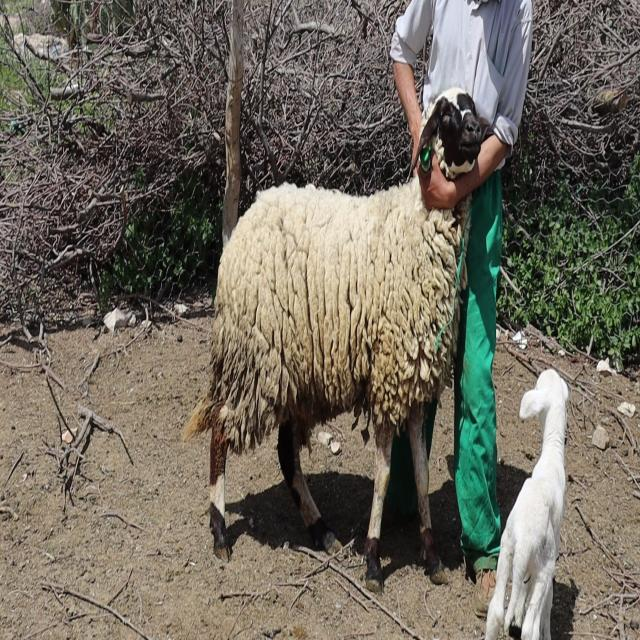Score_5: (185, 88, 485, 591)
